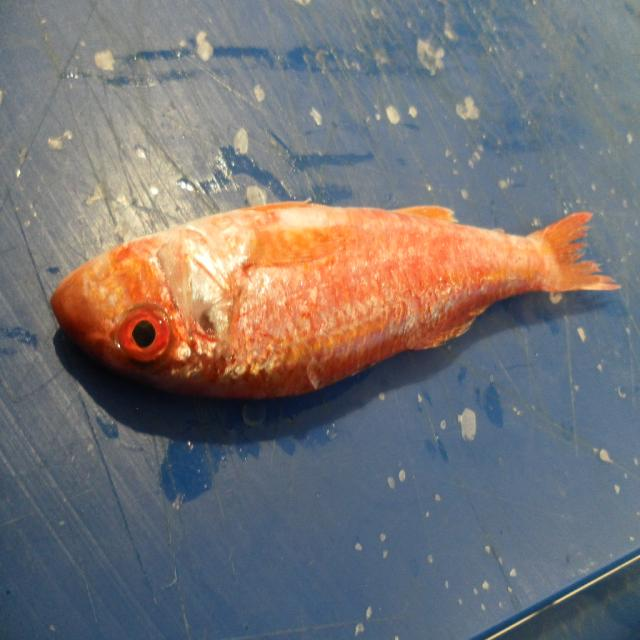Red-Mullet-kefal-: (49, 202, 619, 403)
